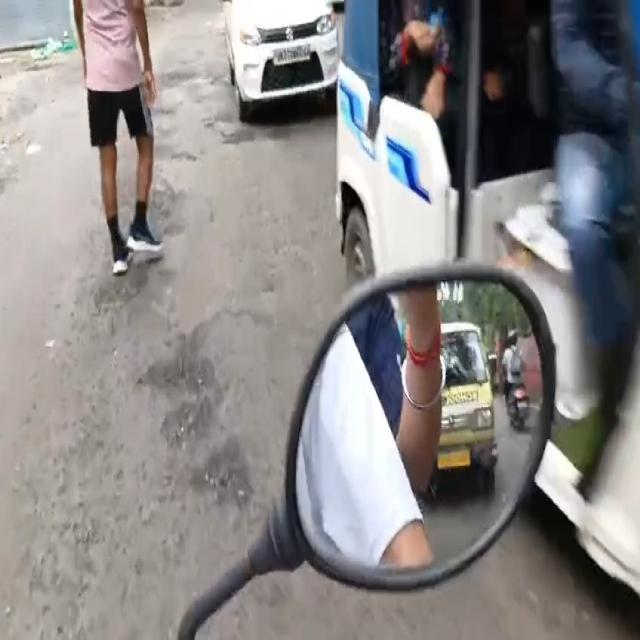road-pothole: (136, 333, 254, 520)
